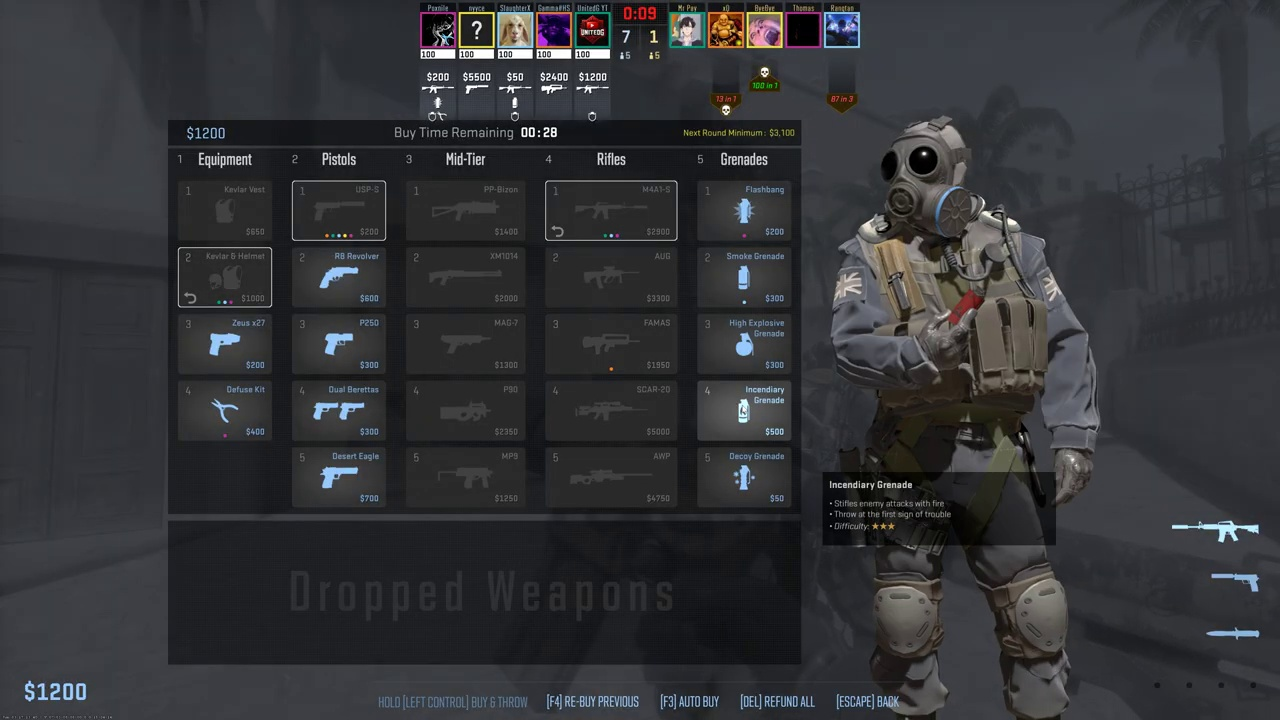CT: (852, 132, 1071, 710)
